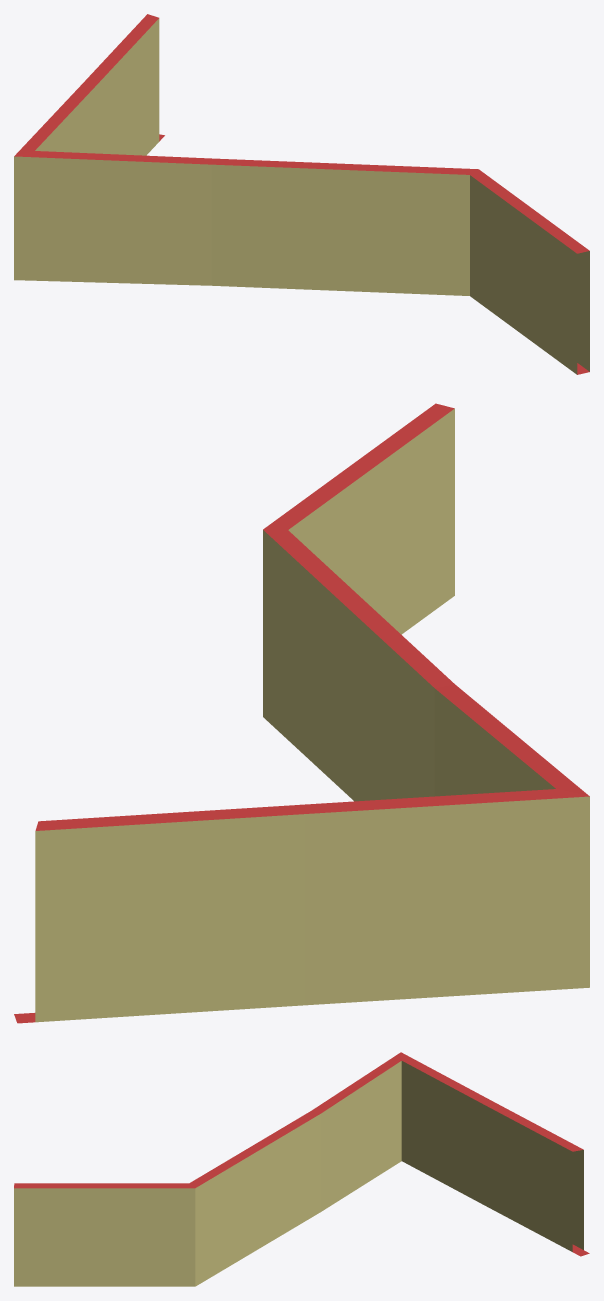
3 renders of one model, top to bottom at view 1: azimuth 30°, elevation 25°; view 2: azimuth 150°, elevation 25°; view 3: azimuth 270°, elevation 25°, orthographic. The views are drawn at different scales.
Size of the model in its own units: 25.8 by 46.84 by 9.02.
